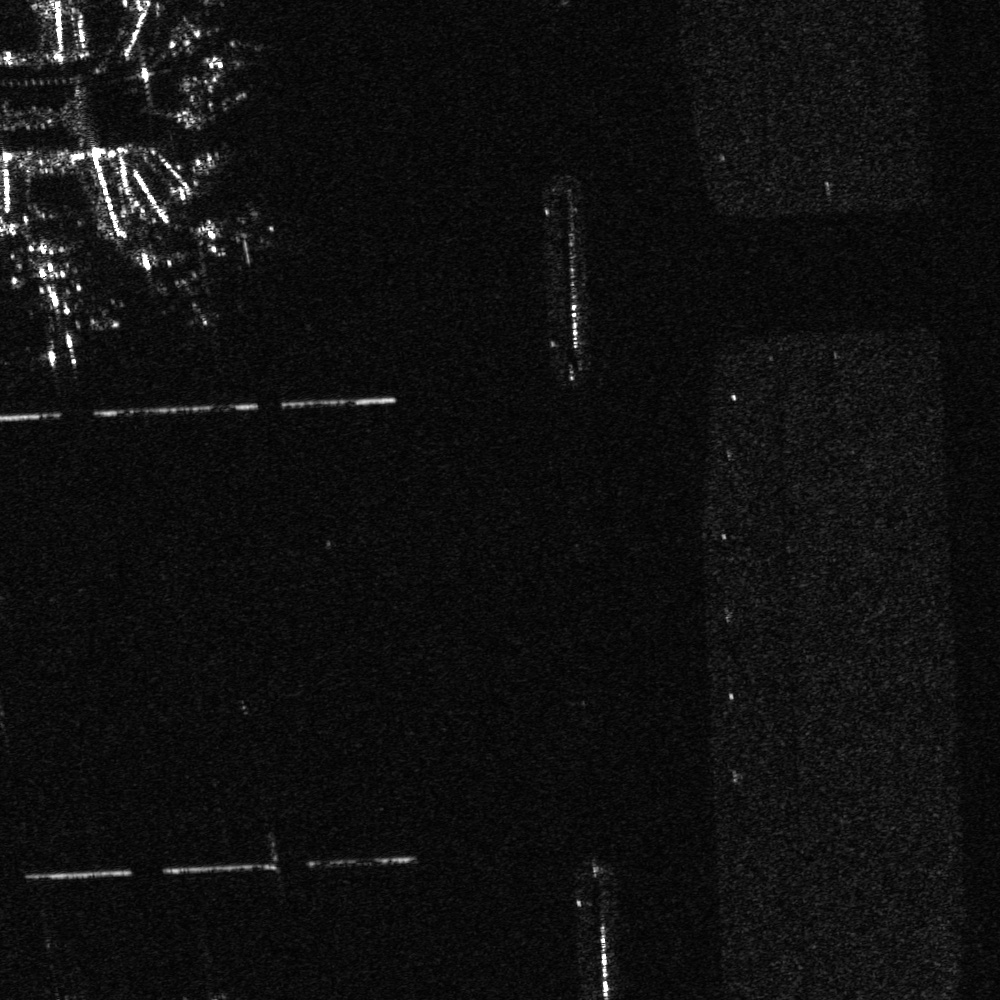A320/321: (14, 255, 111, 366)
Boeing737: (151, 248, 221, 334)
